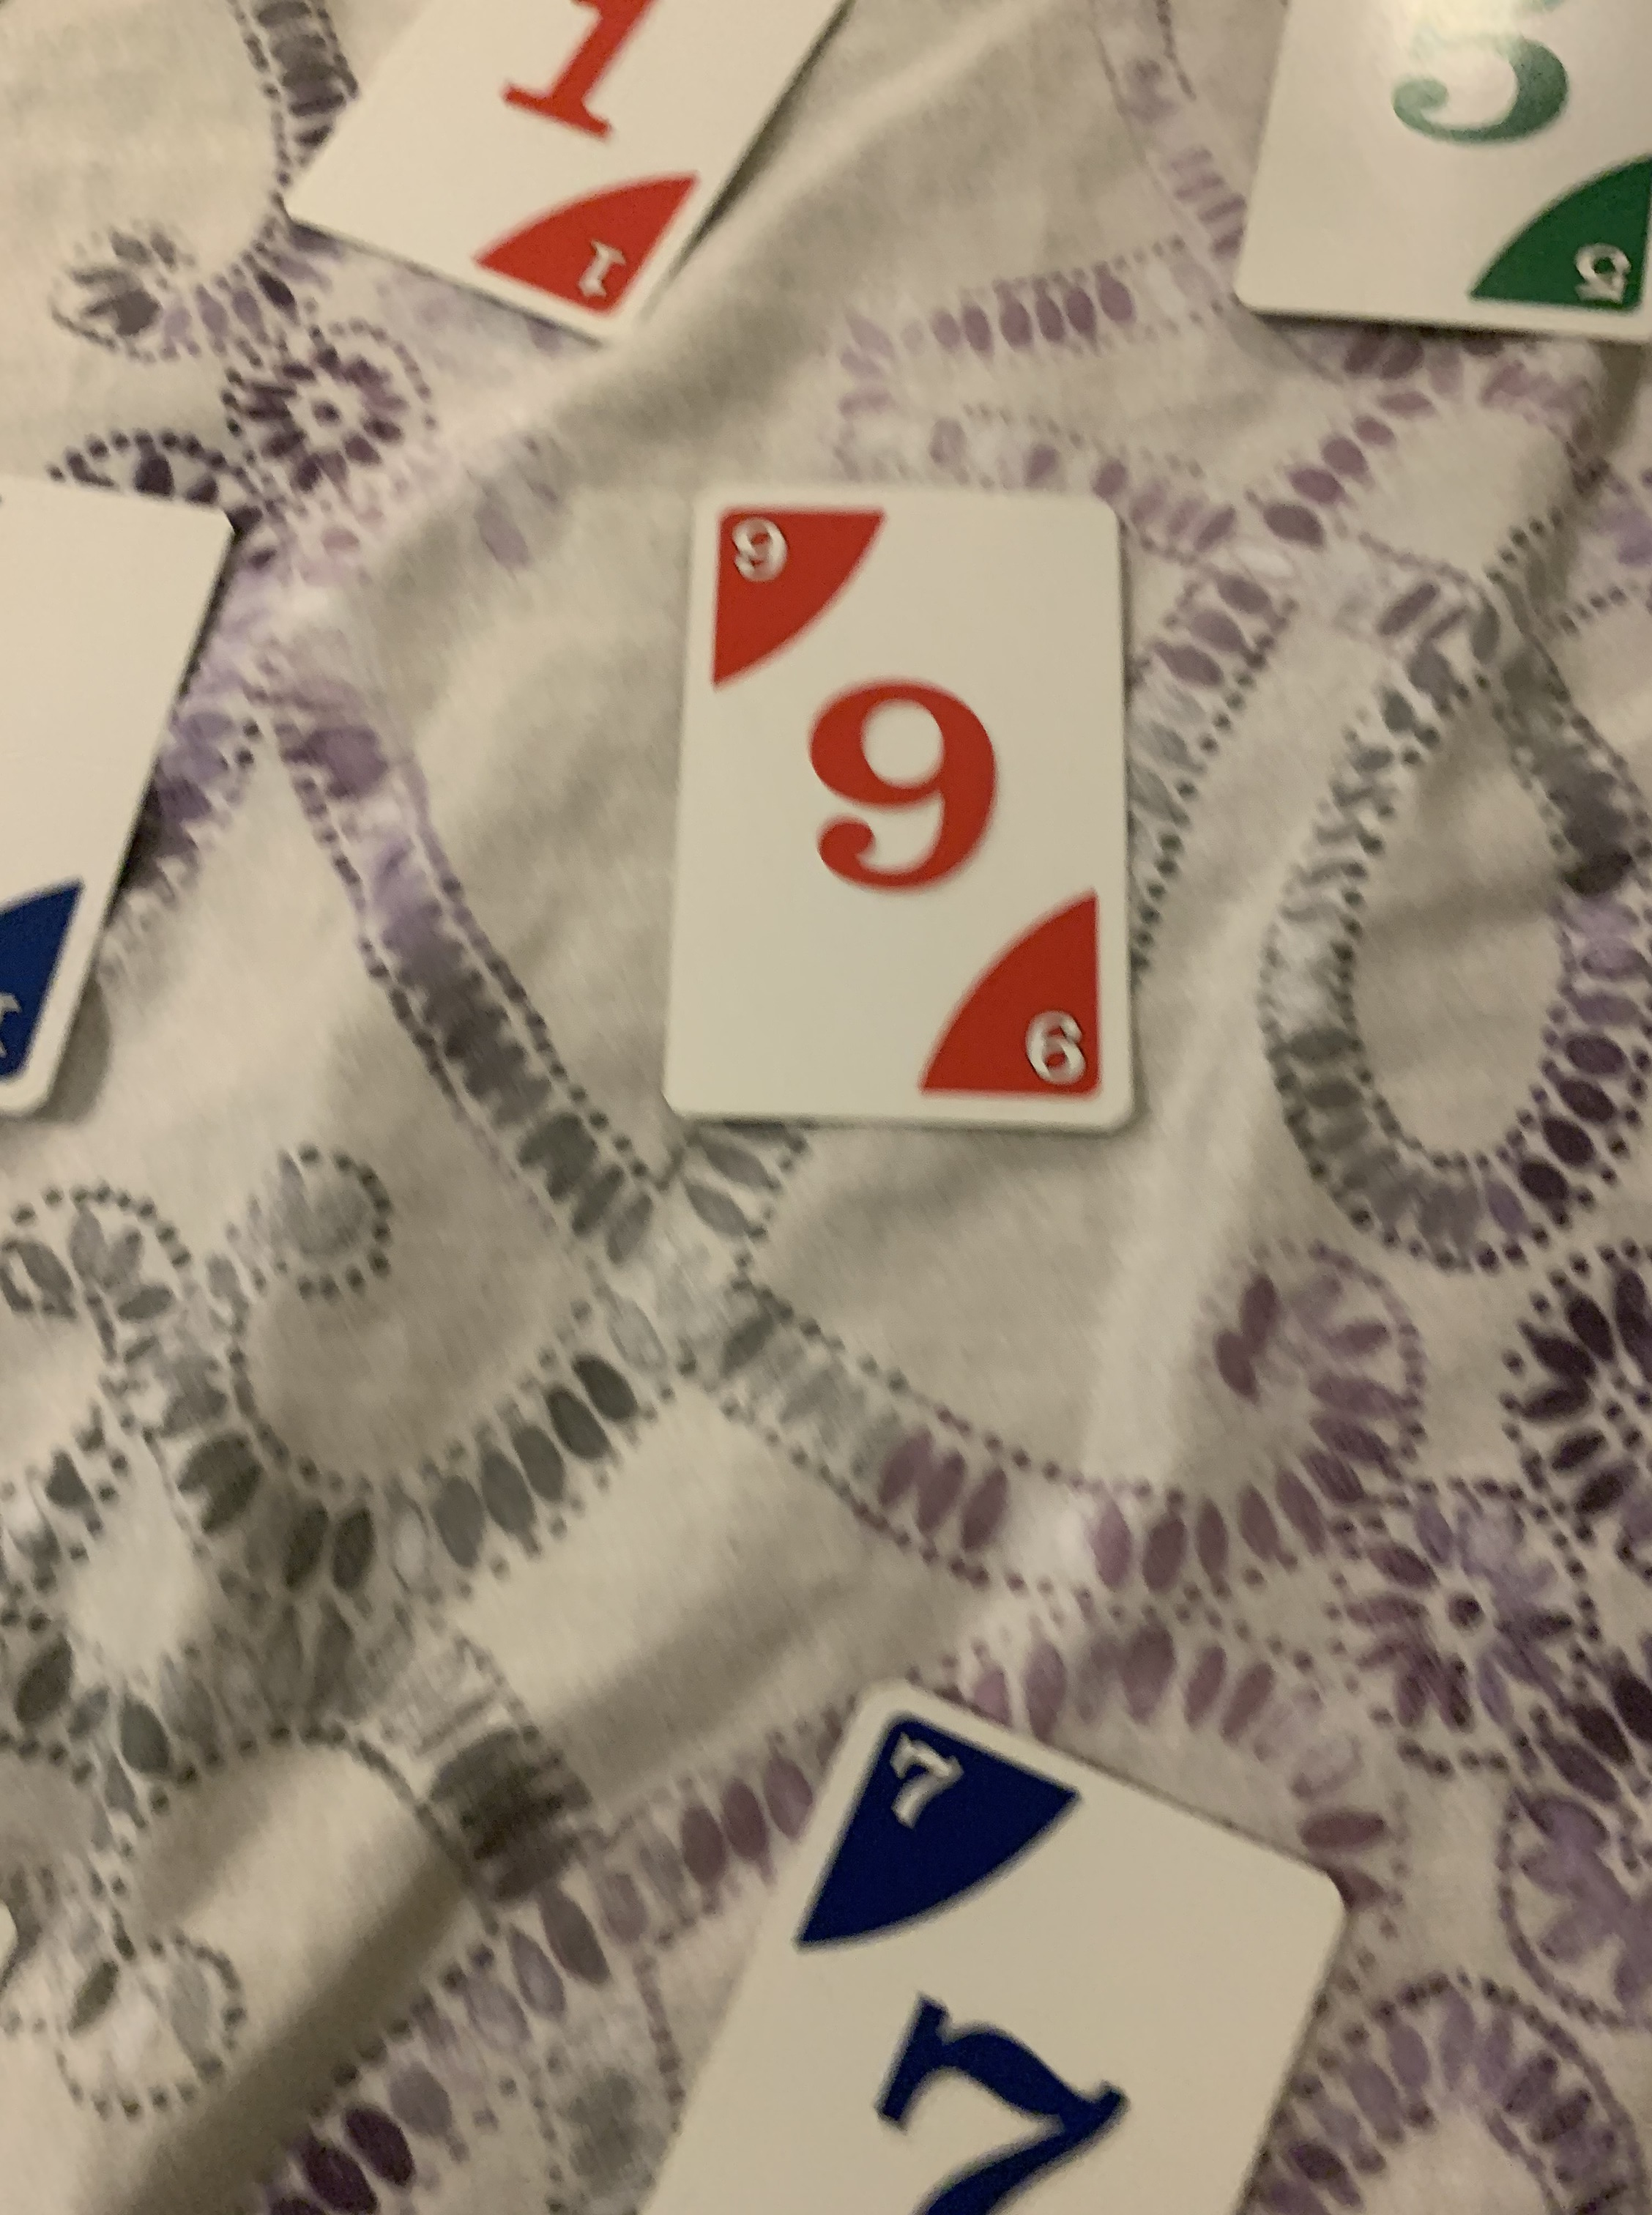nine: (652, 477, 1142, 1139)
seven: (618, 1677, 1345, 2215)
